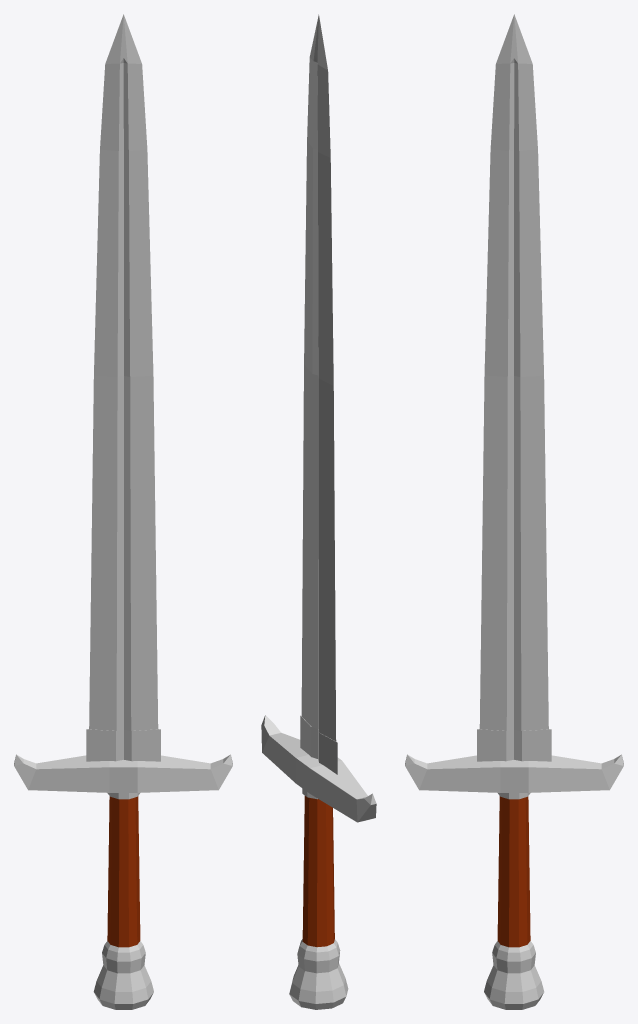
Rendered from espadaDeMetal.glb.
3 views of the same model, side by side, from view 1: azimuth 90°, elevation 25°; view 2: azimuth 210°, elevation 25°; view 3: azimuth 270°, elevation 25° (orthographic).
Parts seen in each view (by area): view 1: espada; view 2: espada; view 3: espada.
Part boxes in pixels (<box>): espada: <box>14,14,232,1009</box>; espada: <box>261,14,376,1009</box>; espada: <box>405,14,623,1009</box>.
Bounding box in the file's own units: 0.226 × 4.27 × 0.8598.
